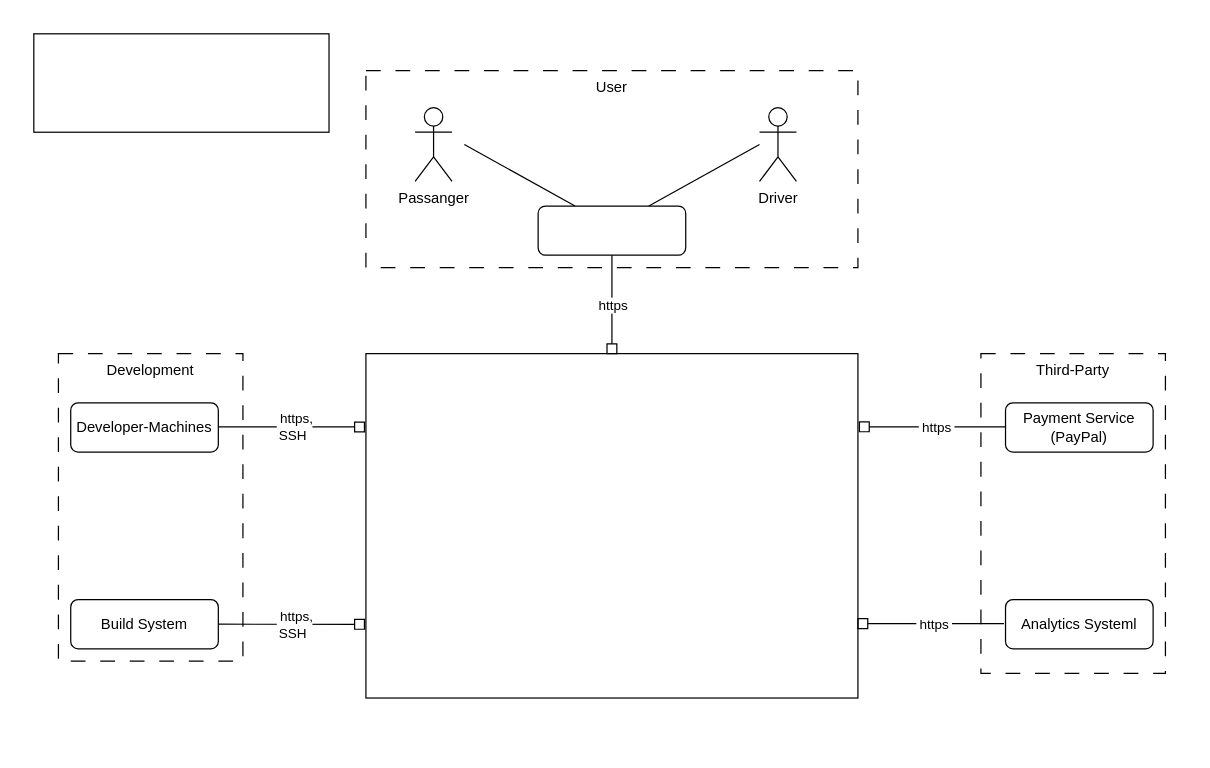
The diagram is 1210 pixels wide and 768 high, and some of its shapes have lost their labels. The centre of each missing label's shape, as x and y in pixels:
"Mobile Android/iOS" belongs at pixel 611 230.
"MOTUS (as a cloudservice)" belongs at pixel 611 525.
"Technical Context" belongs at pixel 181 82.
